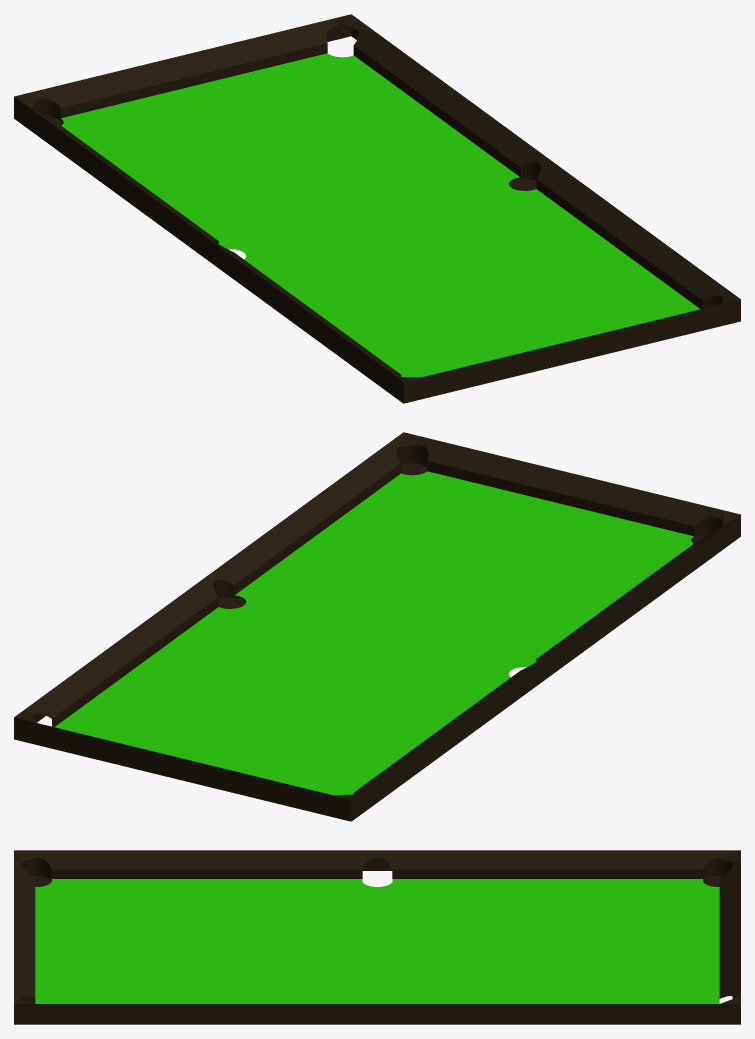
The model's file is table.obj.
3 views of the same model, one above another, from view 1: azimuth 30°, elevation 25°; view 2: azimuth 150°, elevation 25°; view 3: azimuth 270°, elevation 25° (orthographic). The views are drawn at different scales.
Visible parts, largest first — view 1: Plane_Plane.001; view 2: Plane_Plane.001; view 3: Plane_Plane.001.
Boxes of the visible parts, x1,y1,x2,y2 form: Plane_Plane.001: (14, 14, 740, 403); Plane_Plane.001: (14, 432, 740, 821); Plane_Plane.001: (14, 850, 740, 1024).
Bounding box in the file's own units: 8 × 0.5426 × 16.
